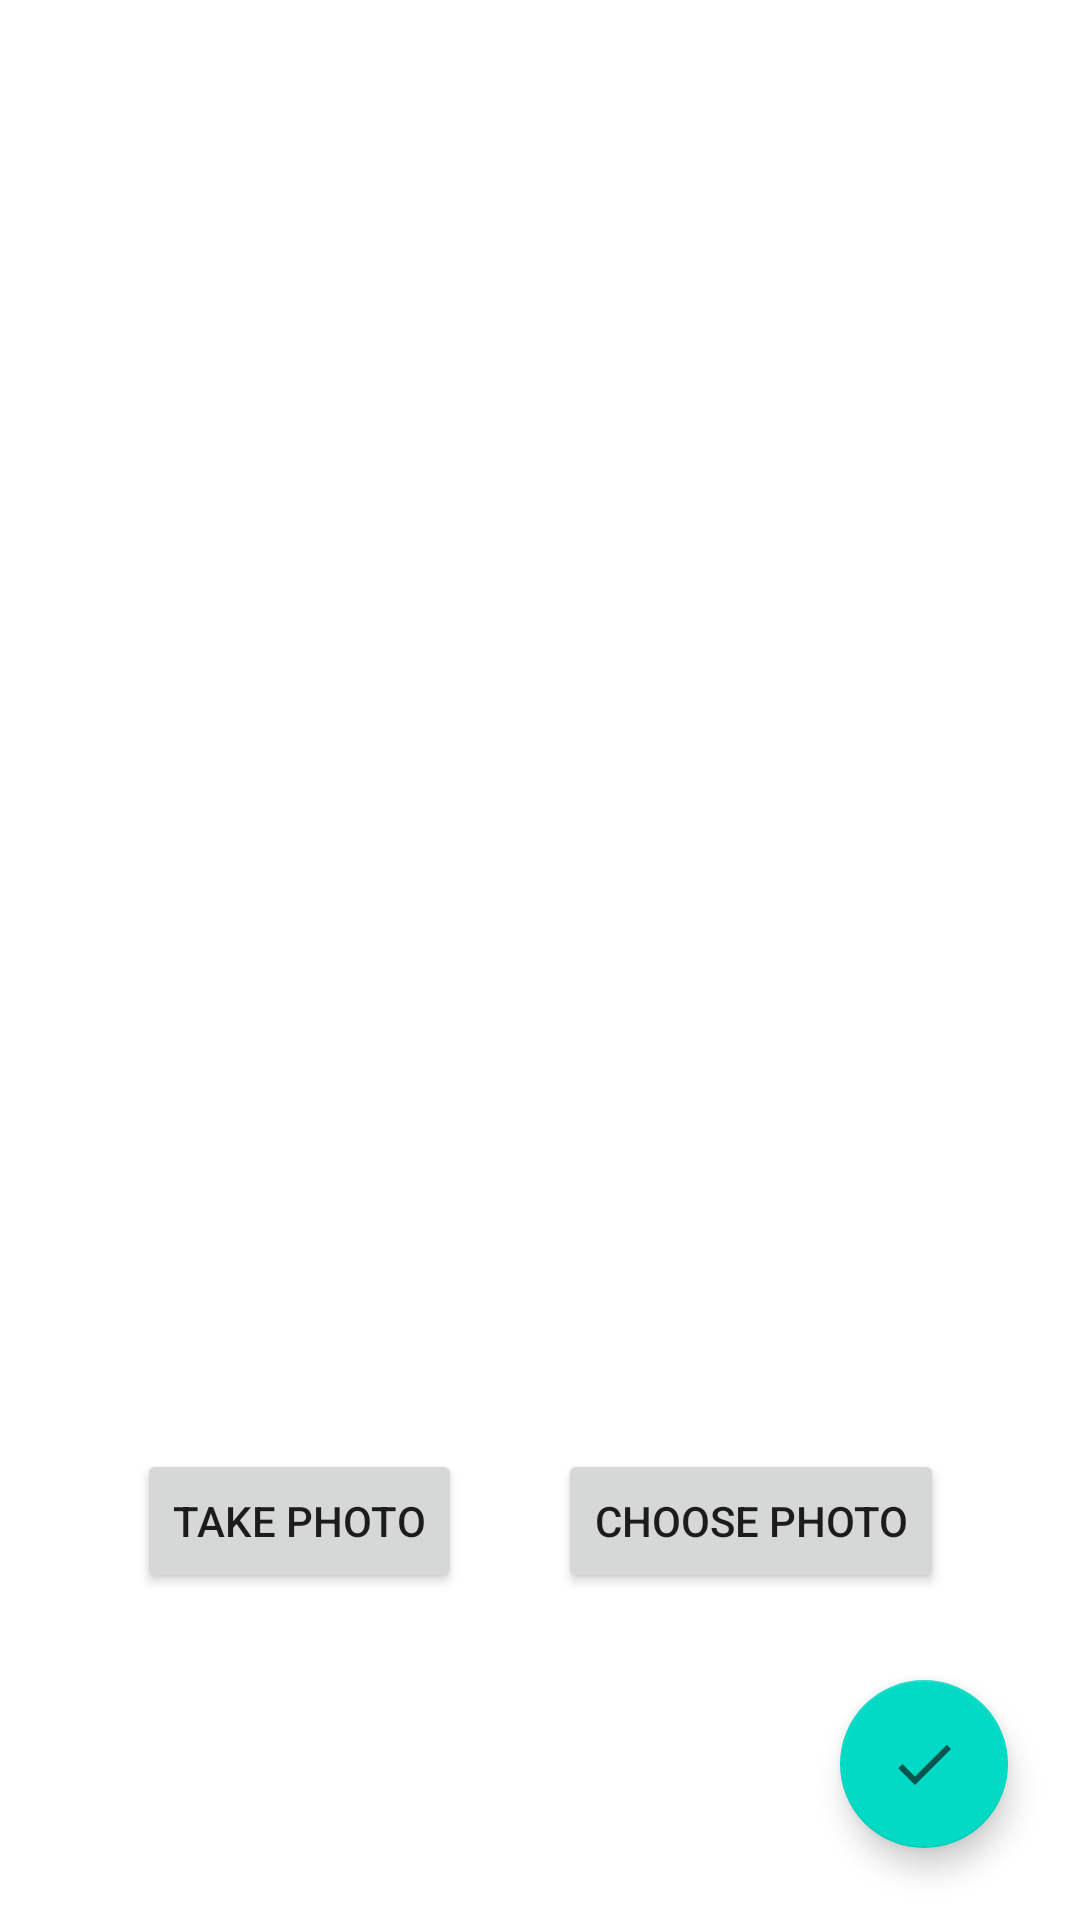

Named icons in this screenshot (1080w x 1920h) and their centers, (x,y):
check mark: (924,1764)
